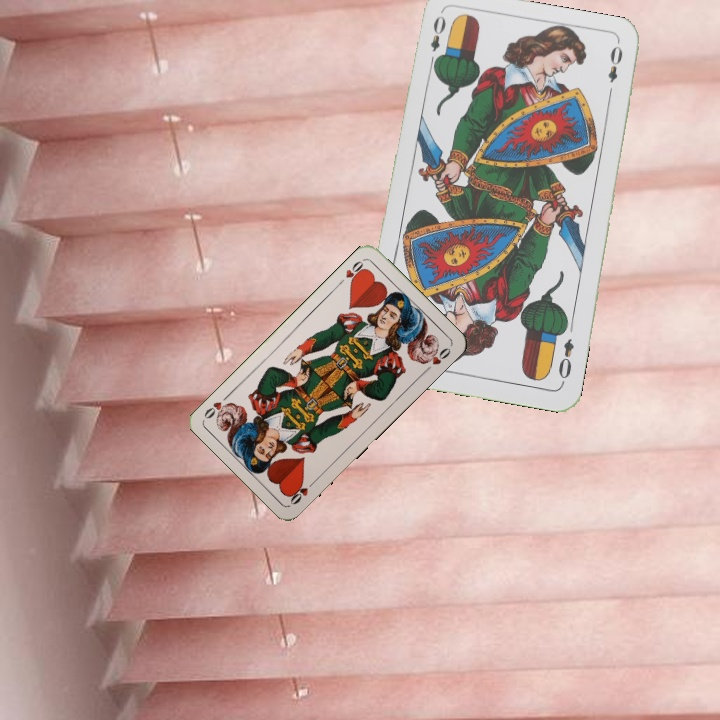EO: (425, 11, 448, 69), (554, 334, 577, 387)
HO: (334, 255, 368, 288), (286, 475, 319, 507)
